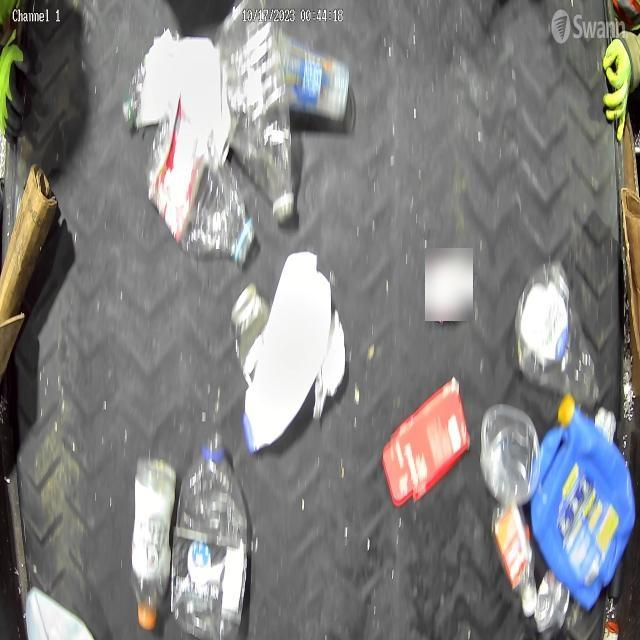milk_jug: (243, 252, 331, 454), (26, 590, 93, 640)
non_white_jug: (532, 402, 638, 614)
plastic_bottle: (144, 96, 256, 261), (178, 427, 248, 636), (230, 20, 296, 222), (514, 258, 603, 406), (130, 456, 175, 630), (490, 497, 540, 617)
